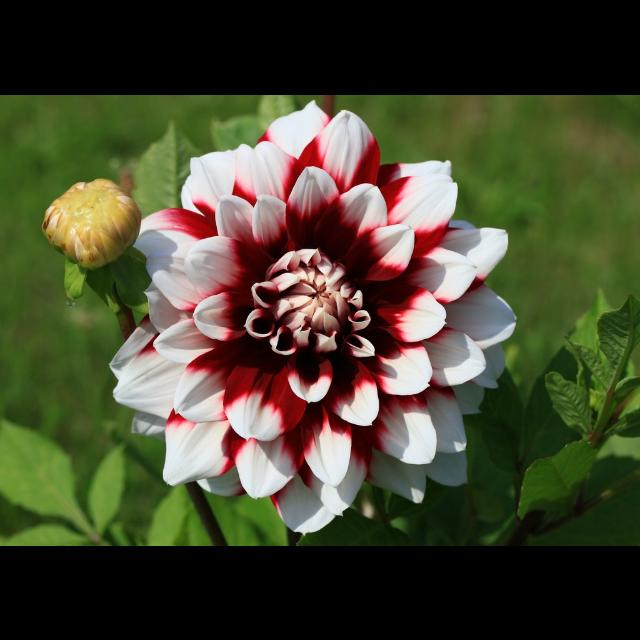Flower: (109, 98, 521, 536)
